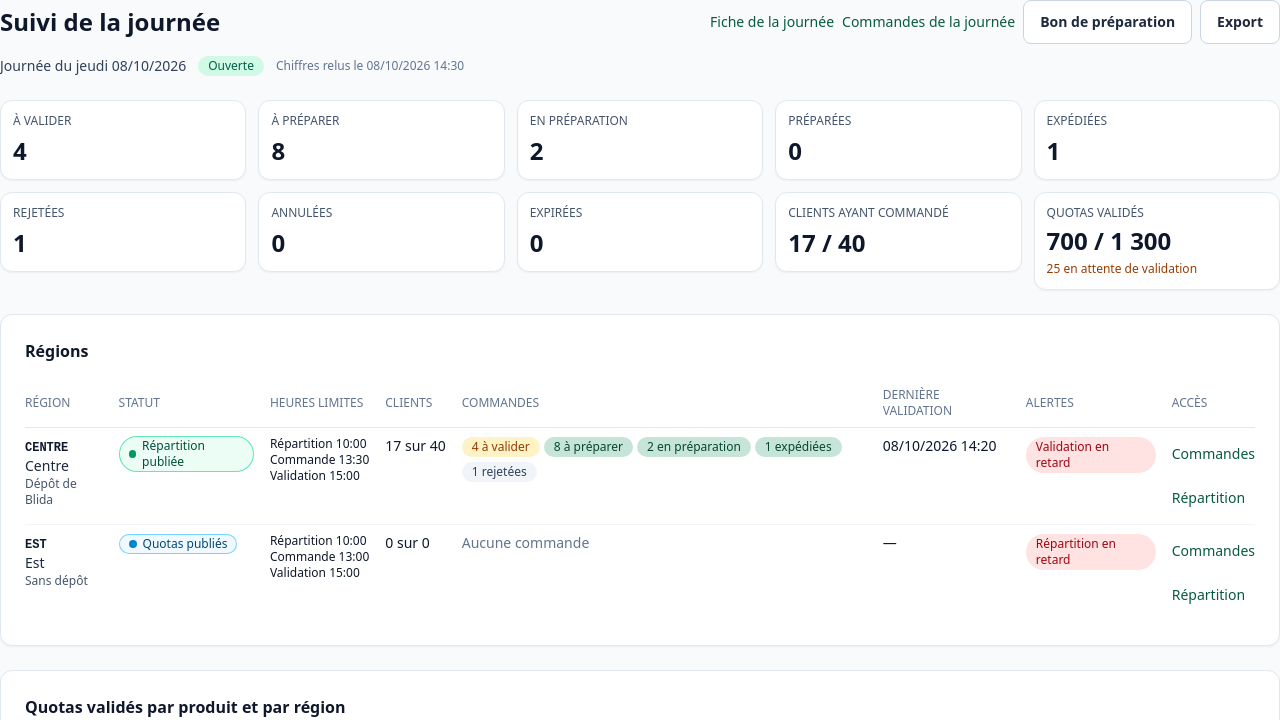
it: ADV — picking list (RG-A04, EF-ADV-05) › downloads the picking list by region in PDF by default
The image size is (1280, 720).
Click the button "Bon de préparation" at [1108, 22], box [1023, 0, 1192, 44]
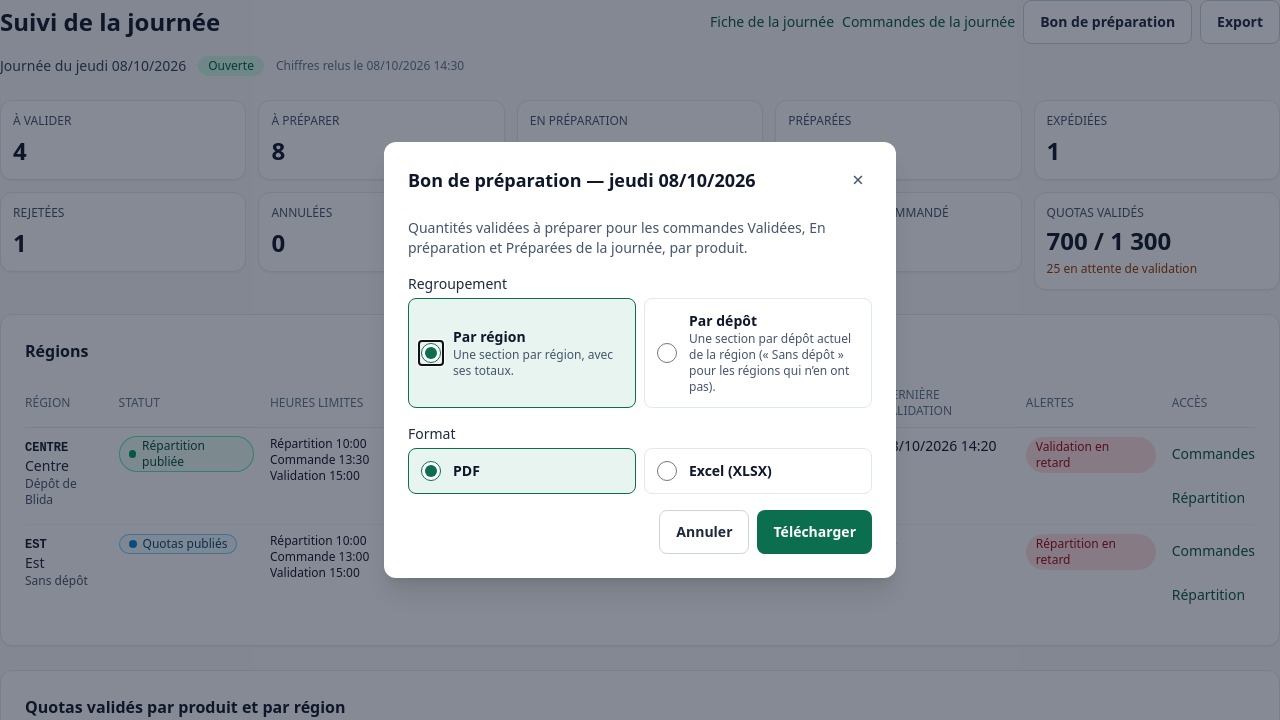
Result: the radio button labelled "Par région Une section par région, avec ses totaux." is checked at [421, 343, 441, 363]
Result: the radio button labelled "PDF" is checked at [421, 461, 441, 481]
Click the button "Télécharger" at [815, 532], box [758, 510, 872, 554]
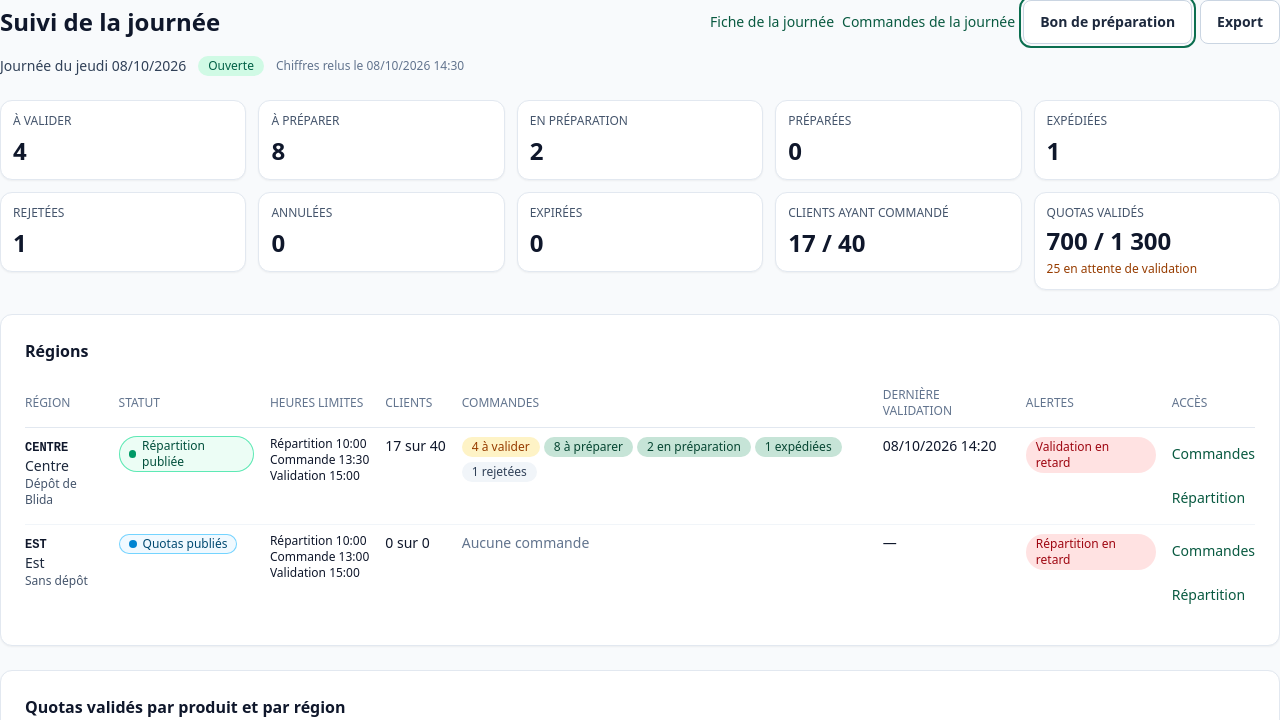
Result: the dialog is gone
